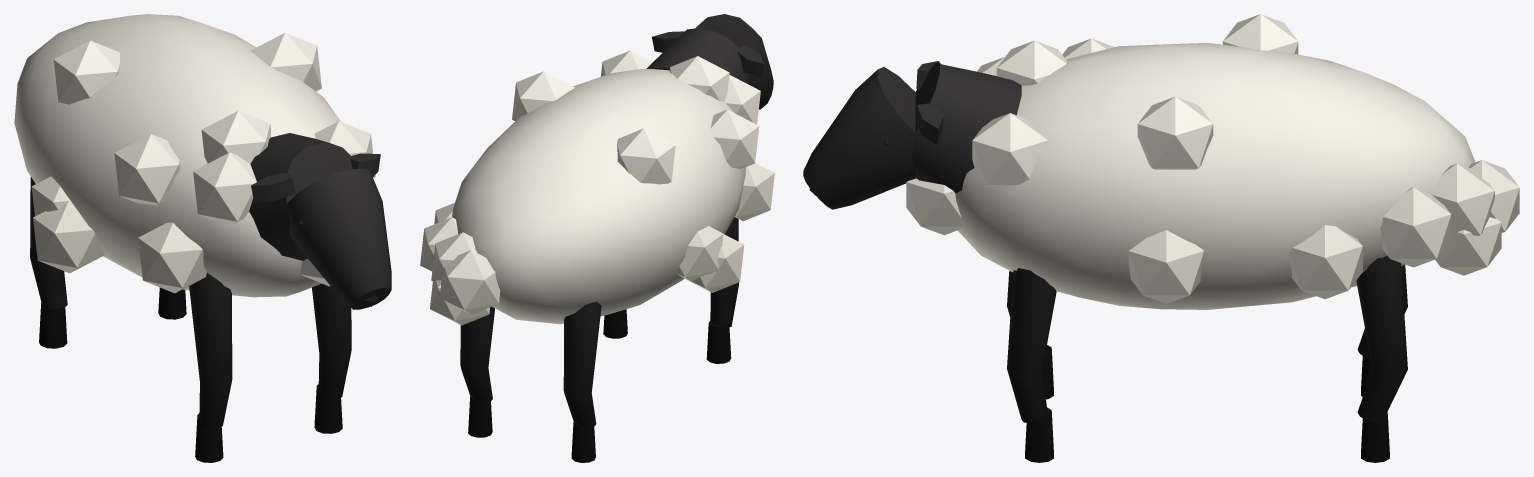
File: Sheep.fbx
3 views of the same model, side by side, from view 1: azimuth 30°, elevation 25°; view 2: azimuth 150°, elevation 25°; view 3: azimuth 270°, elevation 25° (orthographic). The views are drawn at different scales.
Visible parts, largest first — view 1: Sheep_LOD0; view 2: Sheep_LOD0; view 3: Sheep_LOD0.
Part boxes in pixels (left/top/right/bottom): Sheep_LOD0: left=14, top=14, right=391, bottom=462; Sheep_LOD0: left=420, top=14, right=774, bottom=462; Sheep_LOD0: left=803, top=14, right=1519, bottom=462.
Size of what is drawn, in the model's own units: 0.7642 by 0.8297 by 1.45.
Materials: 1 (1 with a texture image).
